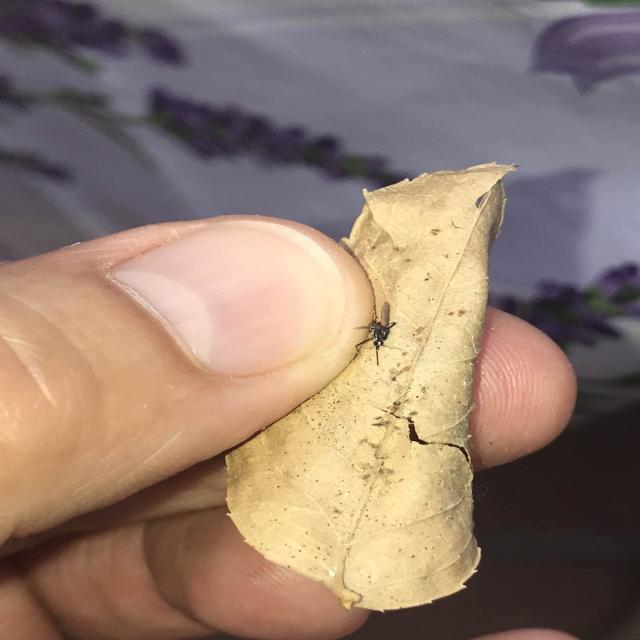albopictus: (339, 300, 409, 363)
